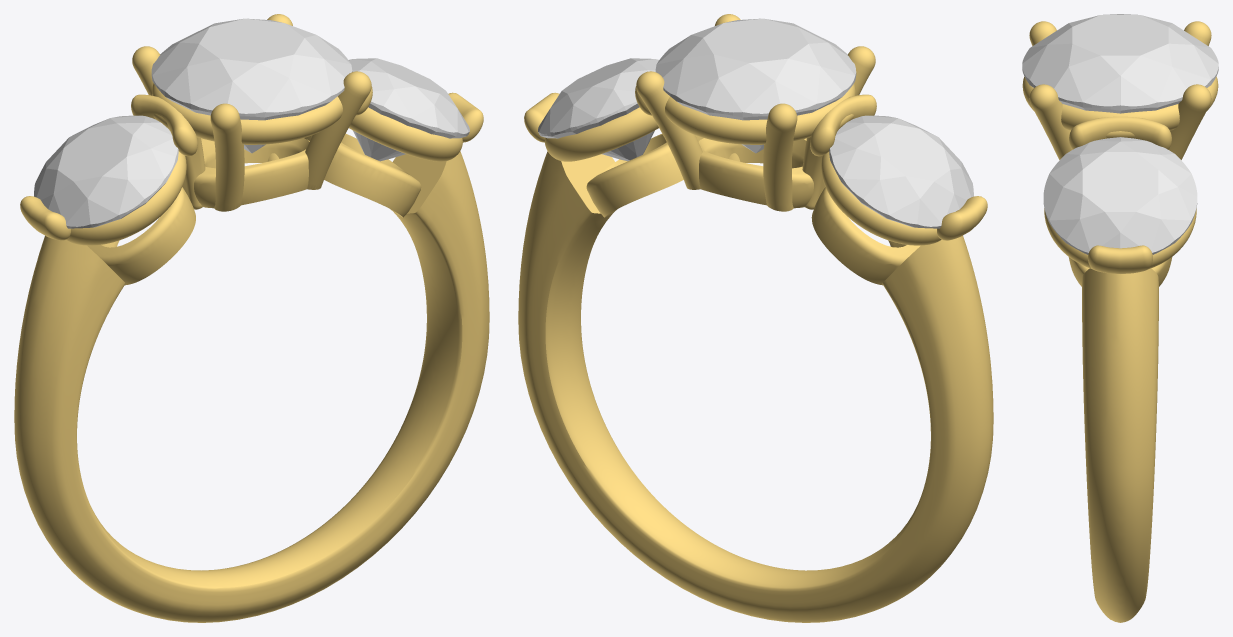
File: PaulaNEWengyg_blender.glb
3 views of the same model, side by side, from view 1: azimuth 30°, elevation 25°; view 2: azimuth 150°, elevation 25°; view 3: azimuth 270°, elevation 25° (orthographic). The views are drawn at different scales.
Visible parts, largest first — view 1: new Paula eng YG for 3d model, new Paula eng dia for 3d model.001, new Paula eng dia for 3d model, new Paula eng dia for 3d model.002; view 2: new Paula eng YG for 3d model, new Paula eng dia for 3d model.001, new Paula eng dia for 3d model, new Paula eng dia for 3d model.002; view 3: new Paula eng YG for 3d model, new Paula eng dia for 3d model.001, new Paula eng dia for 3d model.002.
Boxes of the visible parts, box(x1,y1,x2,y2) form: new Paula eng YG for 3d model: box(14, 14, 489, 622); new Paula eng dia for 3d model.001: box(151, 18, 352, 153); new Paula eng dia for 3d model: box(34, 115, 178, 228); new Paula eng dia for 3d model.002: box(348, 58, 469, 161); new Paula eng YG for 3d model: box(518, 14, 993, 622); new Paula eng dia for 3d model.001: box(655, 18, 856, 153); new Paula eng dia for 3d model: box(829, 115, 973, 228); new Paula eng dia for 3d model.002: box(538, 58, 658, 161); new Paula eng YG for 3d model: box(1022, 21, 1218, 622); new Paula eng dia for 3d model.001: box(1022, 14, 1218, 113); new Paula eng dia for 3d model.002: box(1043, 137, 1197, 254).
Bounding box in the file's own units: 19.9 × 23.39 × 7.4.
